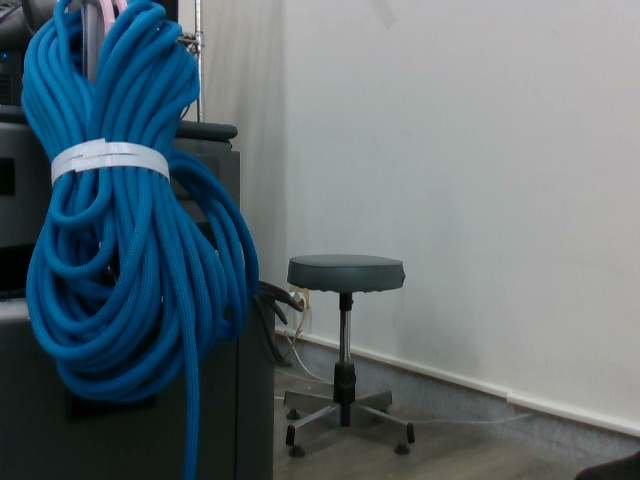rope: (17, 6, 262, 405)
